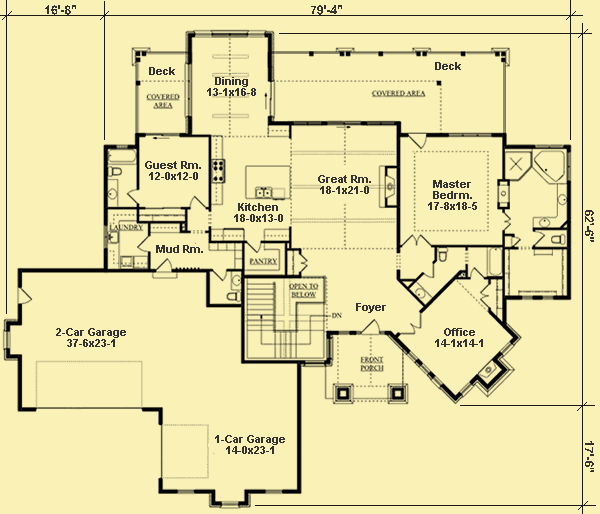door: (399, 313, 423, 337), (402, 234, 431, 250), (478, 282, 492, 309), (189, 194, 207, 211), (137, 232, 152, 252), (208, 268, 228, 283), (362, 319, 380, 333), (127, 186, 140, 205), (411, 134, 427, 149), (247, 240, 264, 254), (156, 258, 174, 271)
large_sink: (435, 245, 452, 264), (547, 231, 566, 246), (223, 290, 241, 305), (109, 164, 124, 179)
small_sink: (533, 214, 564, 227), (556, 183, 568, 215), (108, 178, 120, 208), (231, 271, 241, 290)
stairs: (244, 275, 326, 360)
tub: (485, 247, 504, 276)
twin_sink: (252, 185, 274, 199)
windows: (195, 29, 265, 38), (182, 63, 193, 119), (518, 293, 554, 302), (3, 329, 11, 351)
